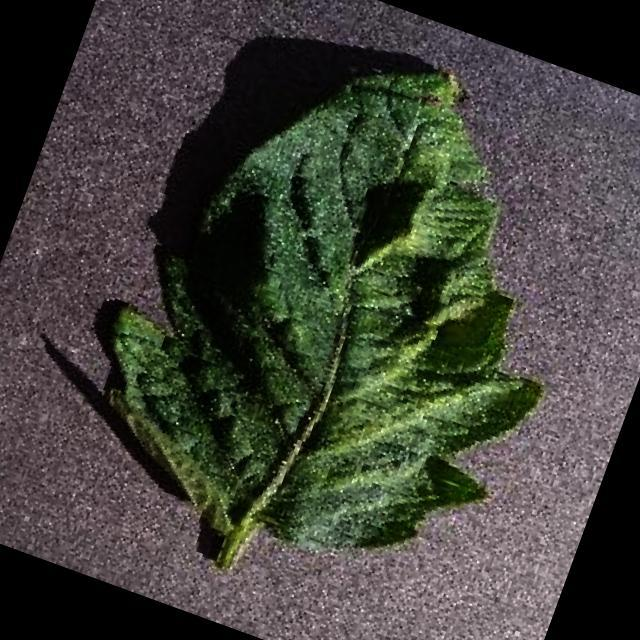Tomato spider mites leaf: (56, 0, 630, 619)
